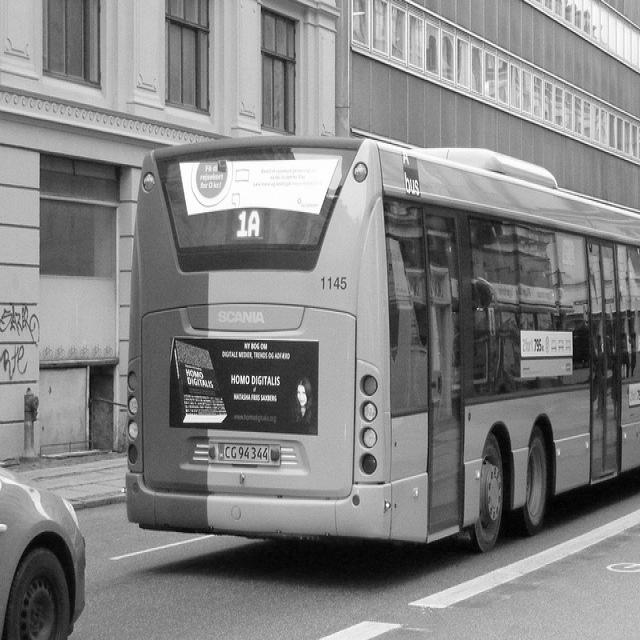bus: (123, 134, 638, 554)
car: (1, 463, 84, 629)
fire_hydrant: (17, 383, 39, 465)
